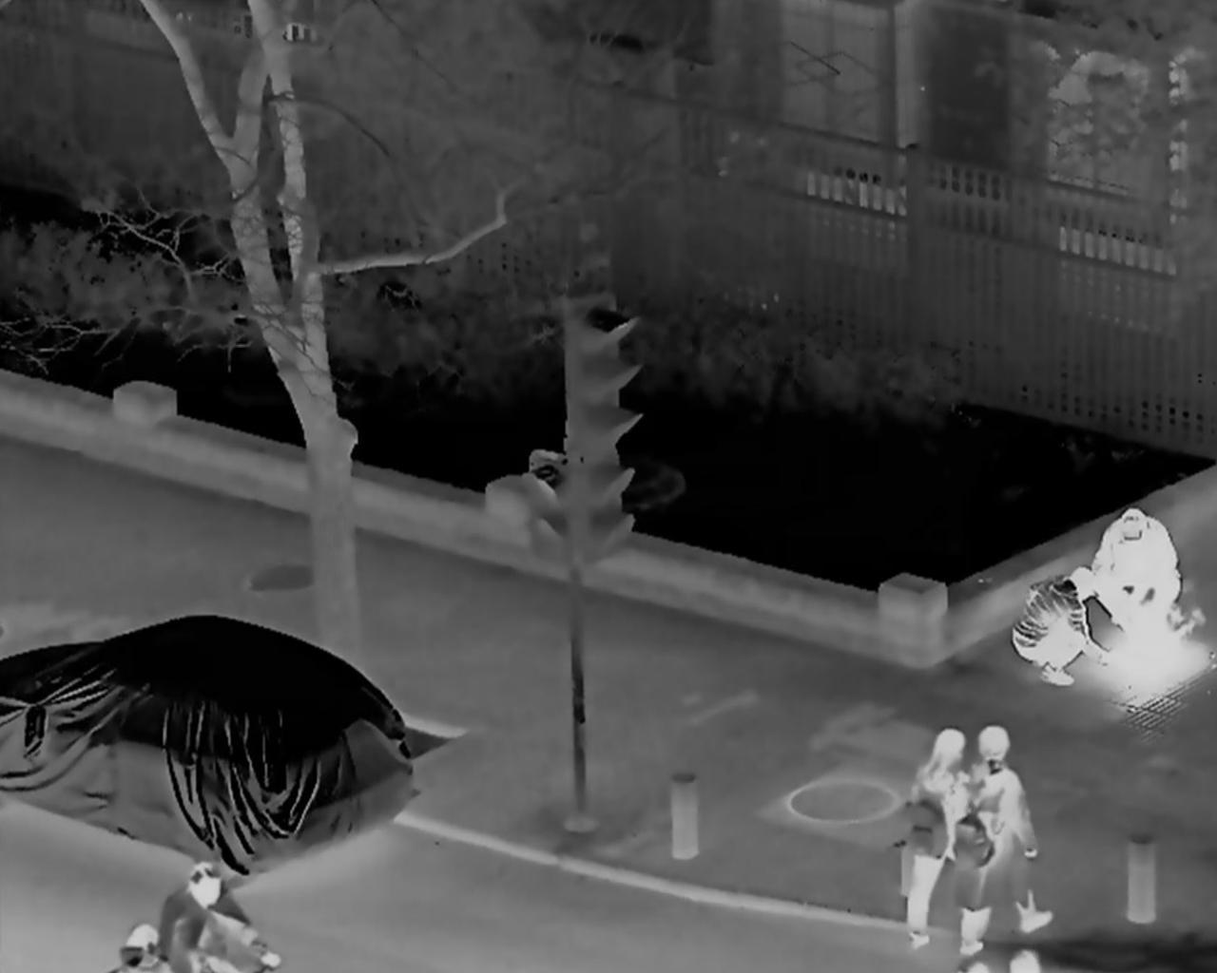person: (956, 723, 1053, 951), (901, 725, 991, 944), (1013, 567, 1118, 689), (159, 868, 280, 973), (1091, 506, 1180, 636)
